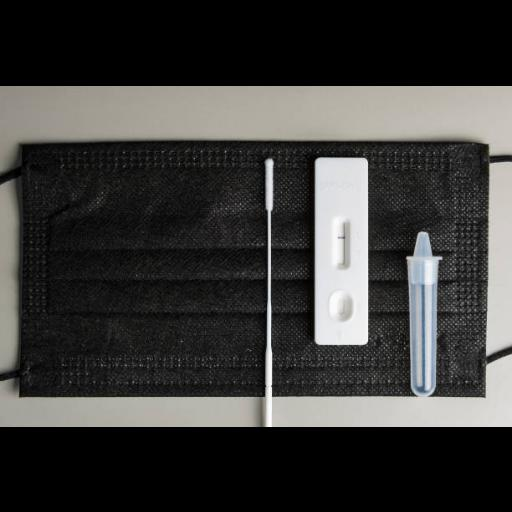Neg: (314, 156, 368, 342)
